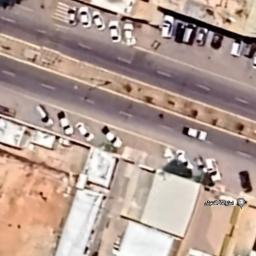SUV: (206, 156, 222, 182), (160, 14, 175, 40)
pickup: (98, 124, 124, 150), (56, 110, 75, 137), (180, 125, 208, 141)
sedan: (74, 120, 96, 143), (174, 149, 193, 174), (76, 4, 94, 30), (122, 20, 138, 47), (90, 9, 106, 32), (107, 20, 122, 44), (194, 154, 209, 176), (66, 6, 79, 26), (174, 21, 185, 44), (212, 30, 224, 50), (196, 26, 207, 46), (252, 51, 256, 69)
van: (33, 103, 54, 130), (182, 22, 197, 46), (242, 39, 256, 61), (230, 36, 242, 58)
